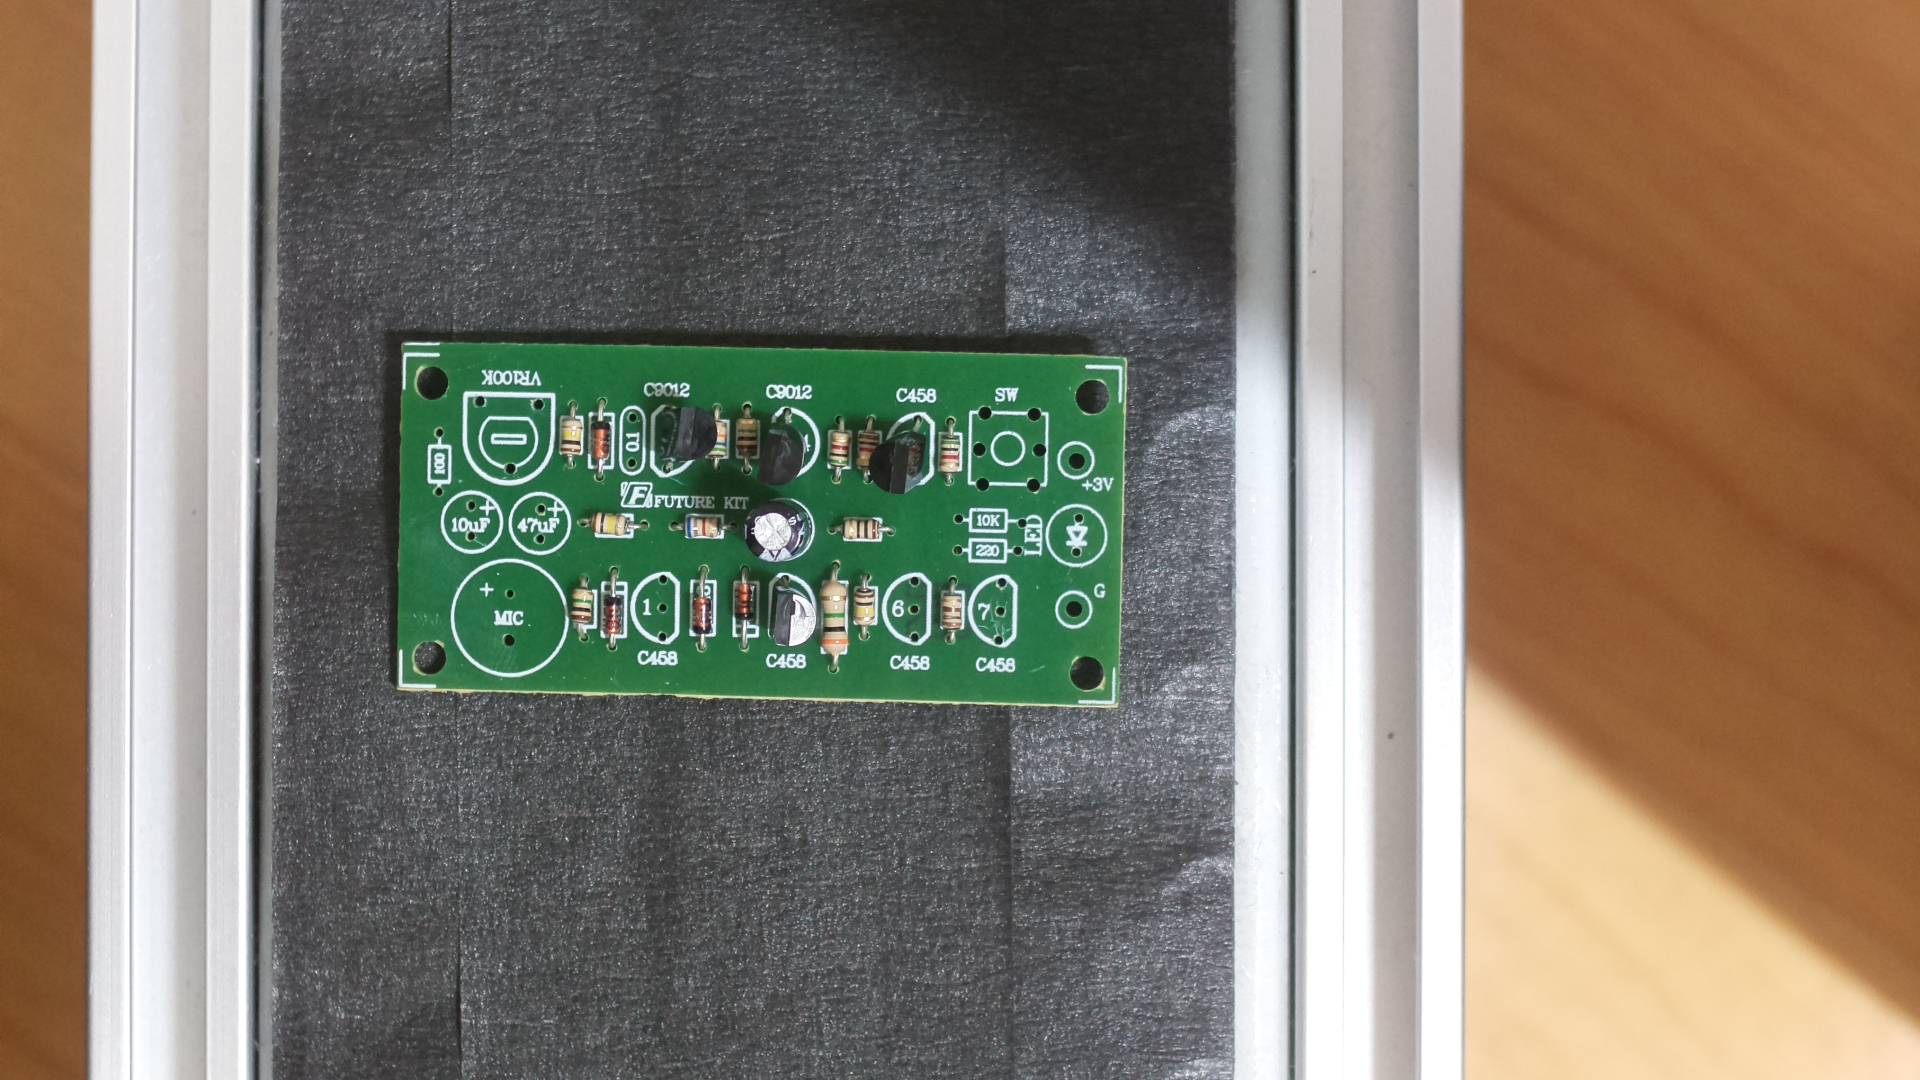A_Missing_part: (392, 330, 1126, 727)
